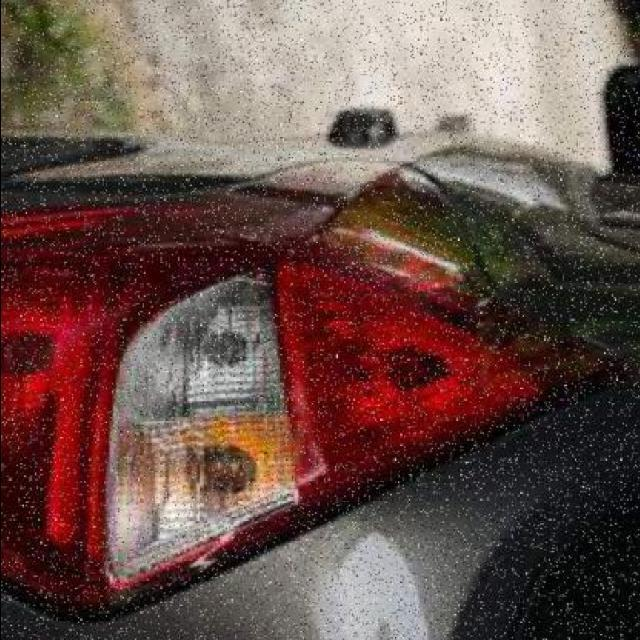Signlight-Damage: (83, 259, 314, 602)
Taillight-Damage: (30, 230, 404, 587)
